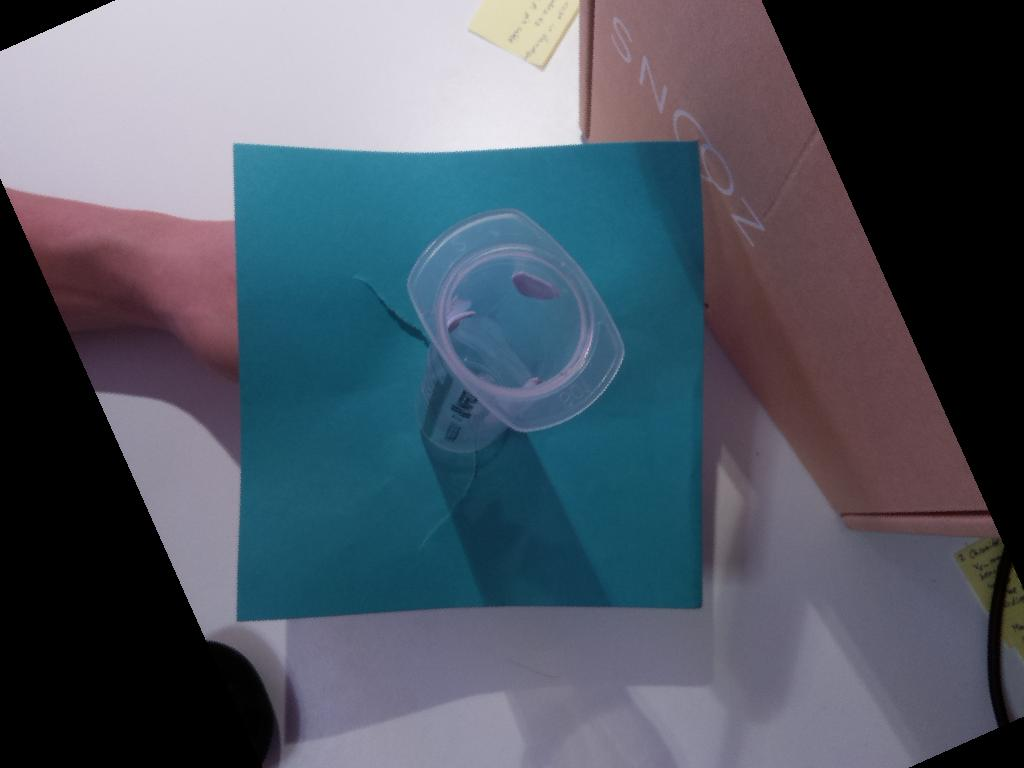dirty: (407, 207, 624, 433)
